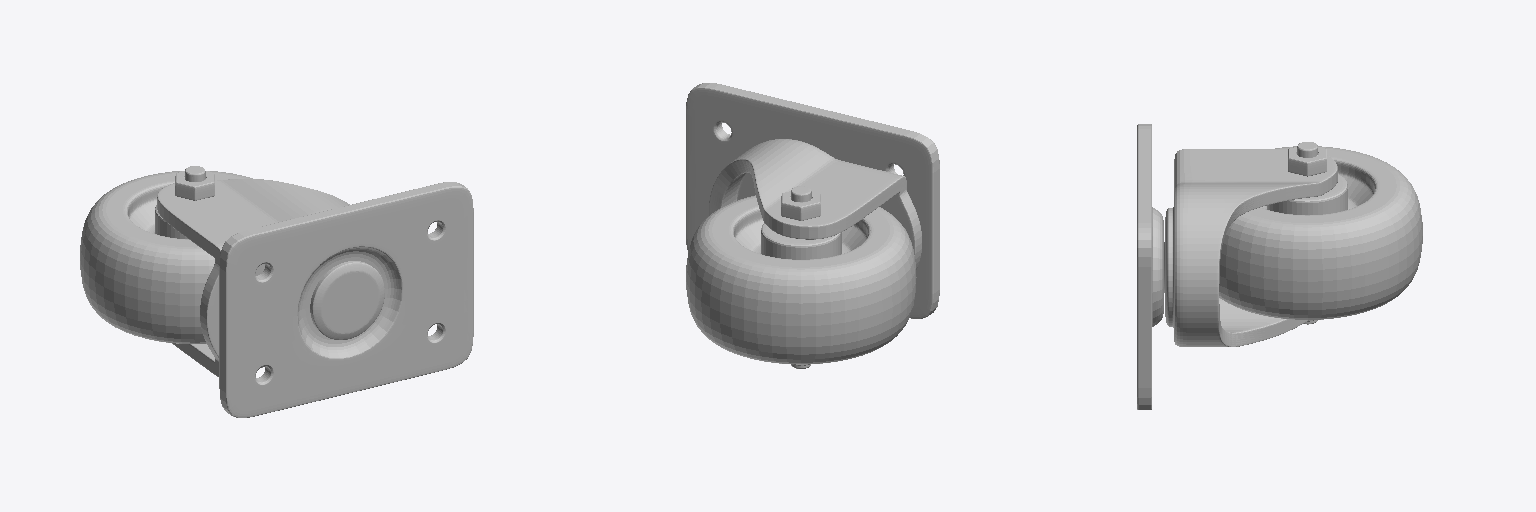
File: 17353_Caster_Swivel_v1.obj
The picture shows the model from 3 angles: view 1: azimuth 30°, elevation 25°; view 2: azimuth 150°, elevation 25°; view 3: azimuth 270°, elevation 25°; orthographic projection.
Visible parts, largest first — view 1: 17353_Caster_Swivel_v1; view 2: 17353_Caster_Swivel_v1; view 3: 17353_Caster_Swivel_v1.
Boxes of the visible parts, <box> form: 17353_Caster_Swivel_v1: <box>80,166,473,417</box>; 17353_Caster_Swivel_v1: <box>686,83,939,368</box>; 17353_Caster_Swivel_v1: <box>1137,124,1422,409</box>.
Size of the model in its own units: 14.16 by 8.39 by 11.94.